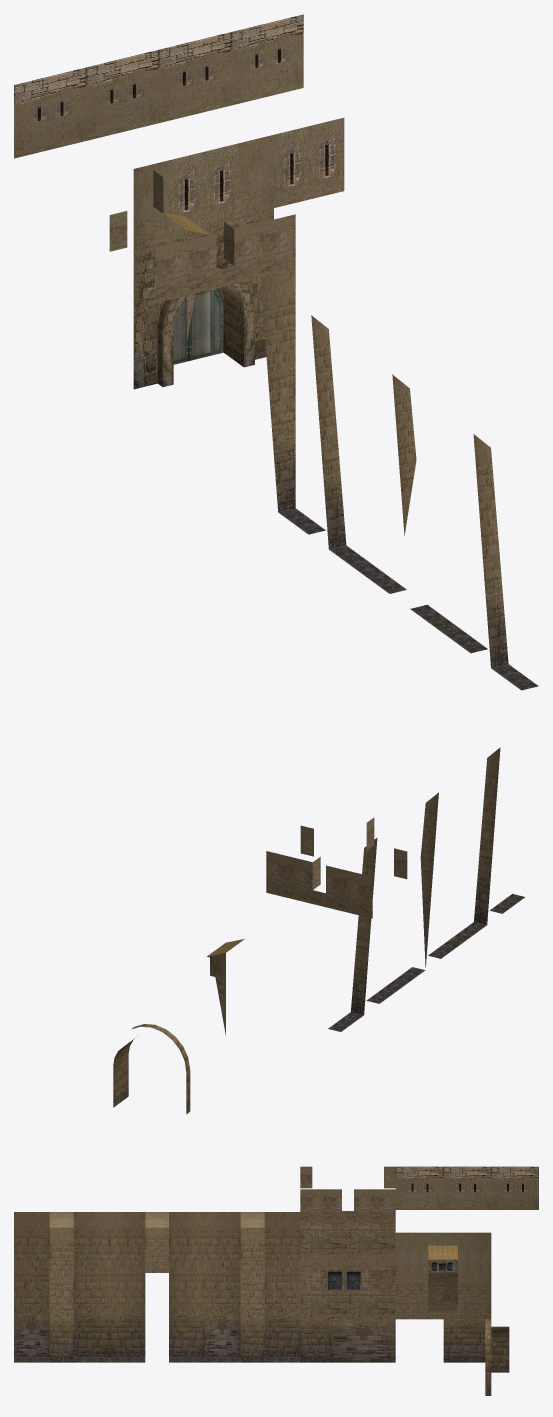
The model's file is M7Z1_CityWall1B.glb.
The picture shows the model from 3 angles, top to bottom: view 1: azimuth 30°, elevation 25°; view 2: azimuth 150°, elevation 25°; view 3: azimuth 270°, elevation 25°; orthographic projection. The views are drawn at different scales.
Visible parts, largest first — view 1: M7Z1_CITYWALL1B; view 2: M7Z1_CITYWALL1B; view 3: M7Z1_CITYWALL1B.
Part boxes in pixels (<box>): M7Z1_CITYWALL1B: <box>14,14,538,690</box>; M7Z1_CITYWALL1B: <box>113,747,525,1114</box>; M7Z1_CITYWALL1B: <box>14,1166,538,1395</box>.
Size of the model in its own units: 20 by 16 by 44.
Materials: 14 (14 with a texture image).
